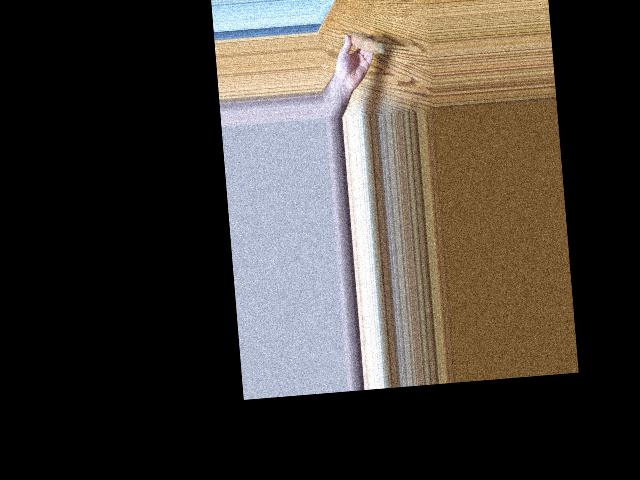sweet_potato: (347, 31, 385, 58)
